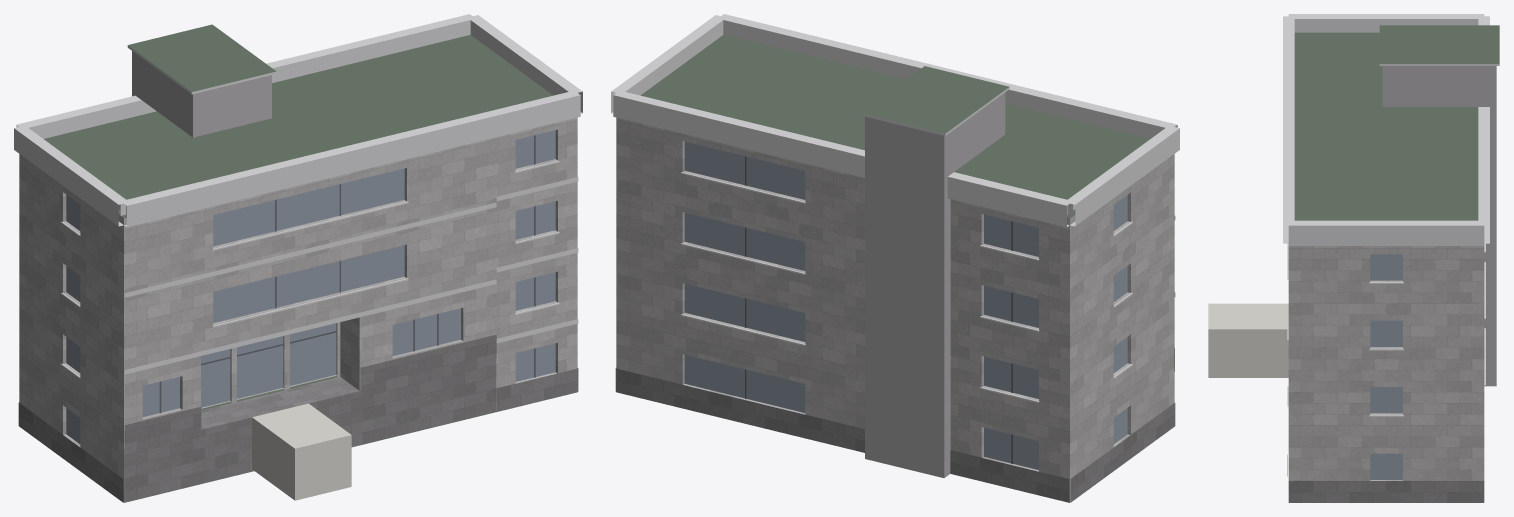
3 views of the same model, side by side, from view 1: azimuth 30°, elevation 25°; view 2: azimuth 150°, elevation 25°; view 3: azimuth 270°, elevation 25° (orthographic). The views are drawn at different scales.
Parts seen in each view (by area): view 1: b42_1__wall, b42_1__roof, b42_1__trim, b42_1__base, b42_1__glass, b42_1__entranceStair, b42_1__wall2, b42_1__frame; view 2: b42_1__wall, b42_1__wall2, b42_1__roof, b42_1__trim, b42_1__glass, b42_1__base; view 3: b42_1__wall, b42_1__roof, b42_1__trim, b42_1__wall2, b42_1__entranceStair, b42_1__base, b42_1__glass.
Part boxes in pixels (x1,y1,x2,y2): b42_1__wall: [19, 117, 577, 502]; b42_1__roof: [44, 24, 552, 502]; b42_1__trim: [14, 14, 582, 378]; b42_1__base: [18, 334, 578, 502]; b42_1__glass: [66, 130, 555, 443]; b42_1__entranceStair: [252, 403, 351, 500]; b42_1__wall2: [132, 51, 271, 137]; b42_1__frame: [159, 135, 535, 413]; b42_1__wall: [616, 117, 1174, 502]; b42_1__wall2: [865, 92, 1005, 477]; b42_1__roof: [641, 35, 1149, 502]; b42_1__trim: [611, 14, 1179, 403]; b42_1__glass: [684, 141, 1127, 469]; b42_1__base: [615, 348, 1175, 502]; b42_1__wall: [1288, 246, 1484, 480]; b42_1__roof: [1294, 25, 1499, 220]; b42_1__trim: [1283, 14, 1499, 416]; b42_1__wall2: [1382, 66, 1496, 386]; b42_1__entranceStair: [1208, 303, 1288, 377]; b42_1__base: [1287, 455, 1484, 502]; b42_1__glass: [1370, 254, 1402, 479].
Size of the model in its own units: 24.61 by 17.57 by 14.32.
9 materials, 2 textured.
